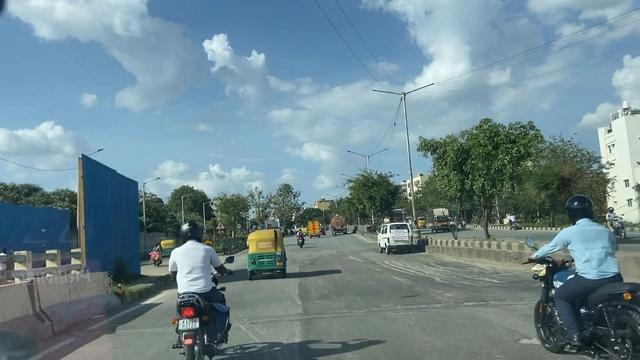RoadDamages: (368, 251, 478, 291), (264, 282, 318, 353)
